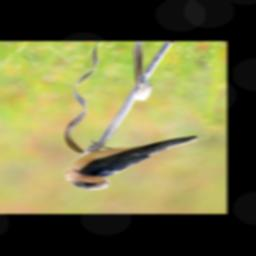Swallow: (63, 132, 212, 193)
